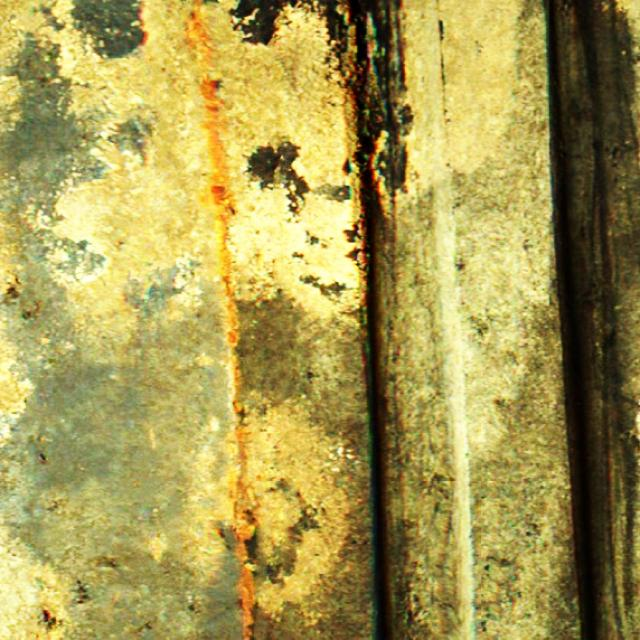Corrosion: (185, 2, 241, 349), (230, 425, 257, 635), (227, 355, 244, 415)
